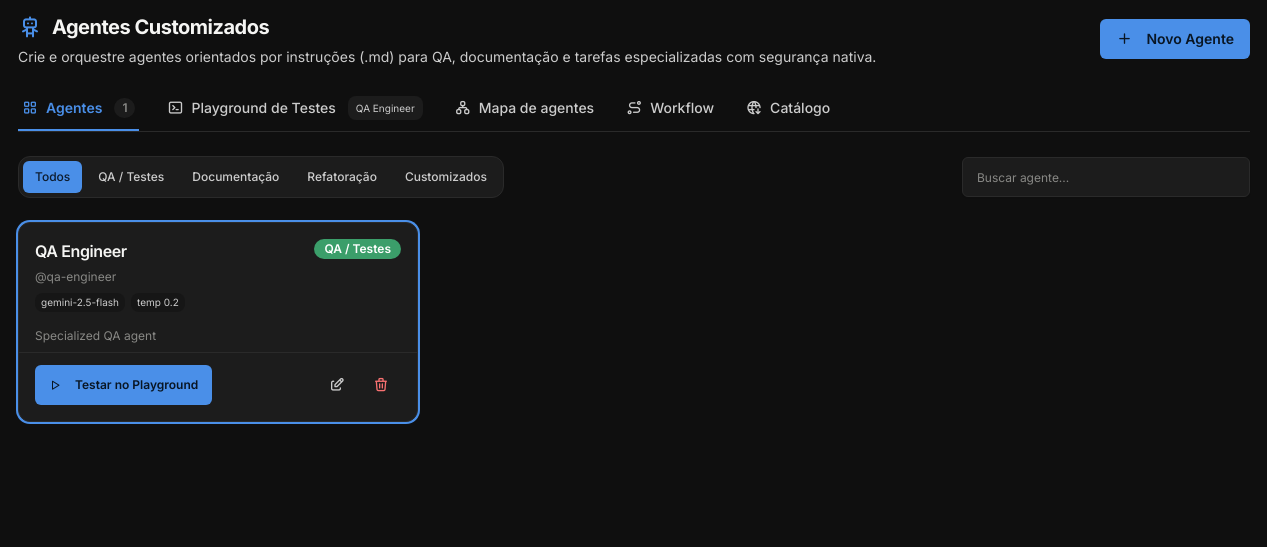
it: AgentsView extra paths › shows map load failures and treats an unexpected agent payload as empty
Expected: the element with test id "agent-card-qa-engineer" is shown, [18,222,418,422]
Click the button with test id "tab-map" at (524, 111), box [451,91,598,131]
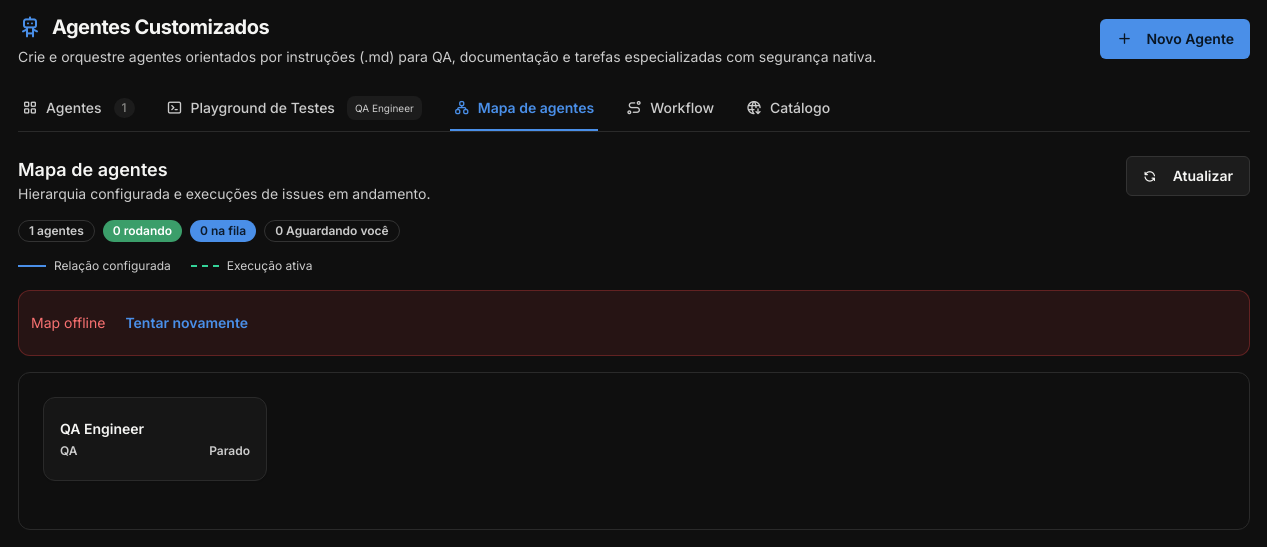
Expected: the text "Map offline Tentar novamente" is shown, [18,290,1250,356]
Click the button "Atualizar" at (1188, 176), box [1126,156,1250,196]
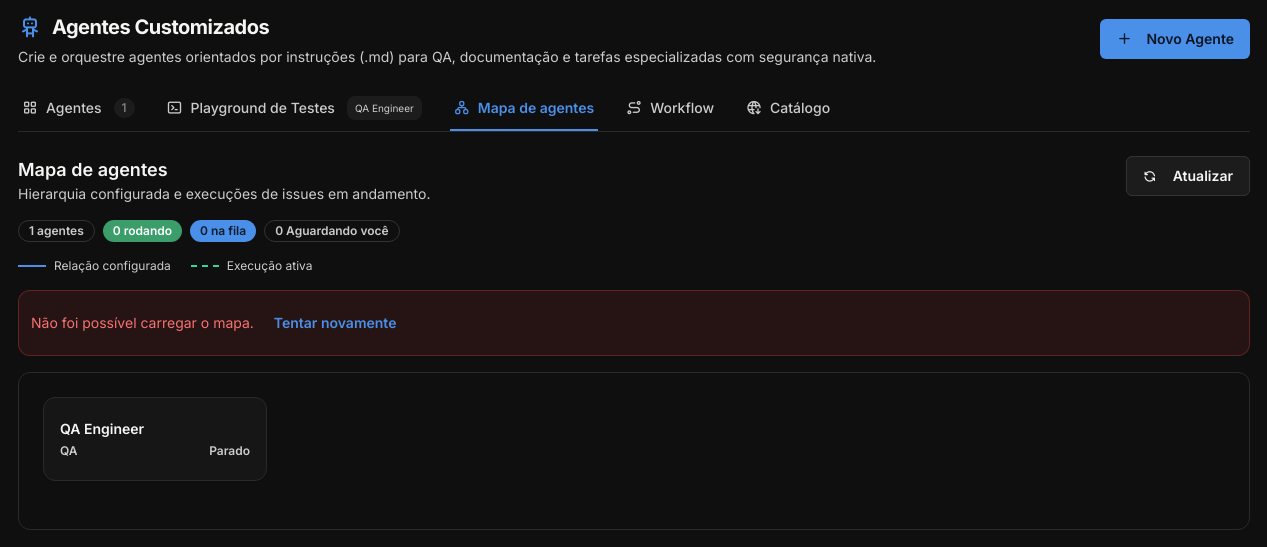
Expected: the text "Não foi possível carregar o mapa. Tentar novamente" is shown, [18,290,1250,356]
Click the button "Atualizar" at (1188, 176), box [1126,156,1250,196]
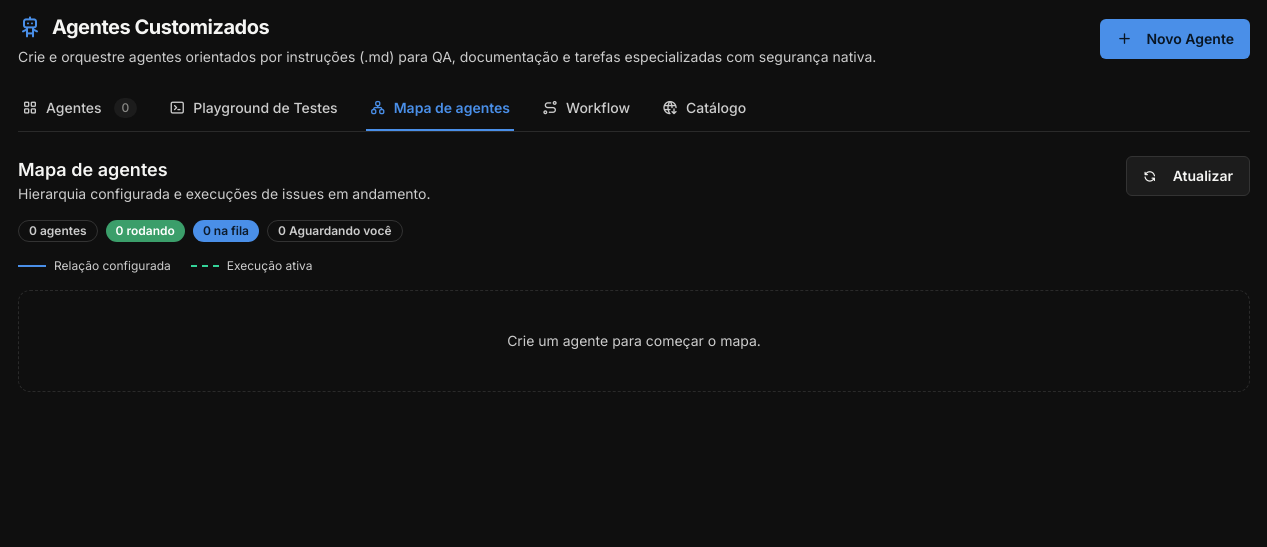
Expected: the button with test id "topology-agent-agent-qa" is gone
